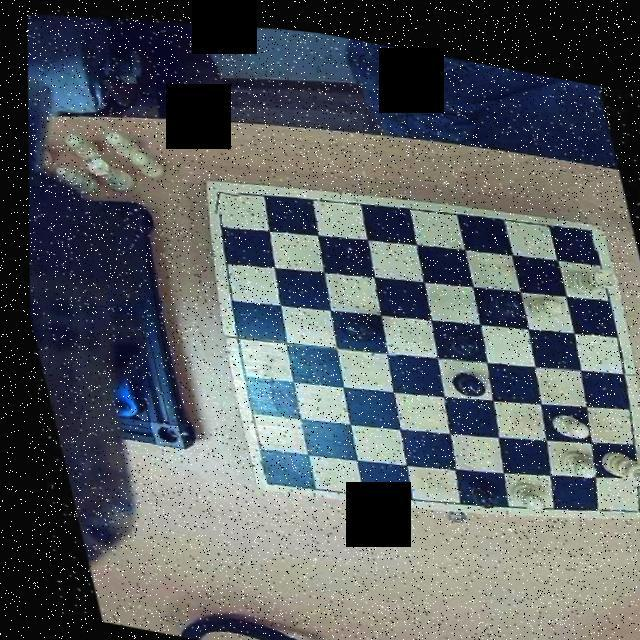chess-table-corners: (200, 174, 243, 215), (243, 450, 282, 490), (564, 204, 604, 241), (610, 476, 640, 509)
